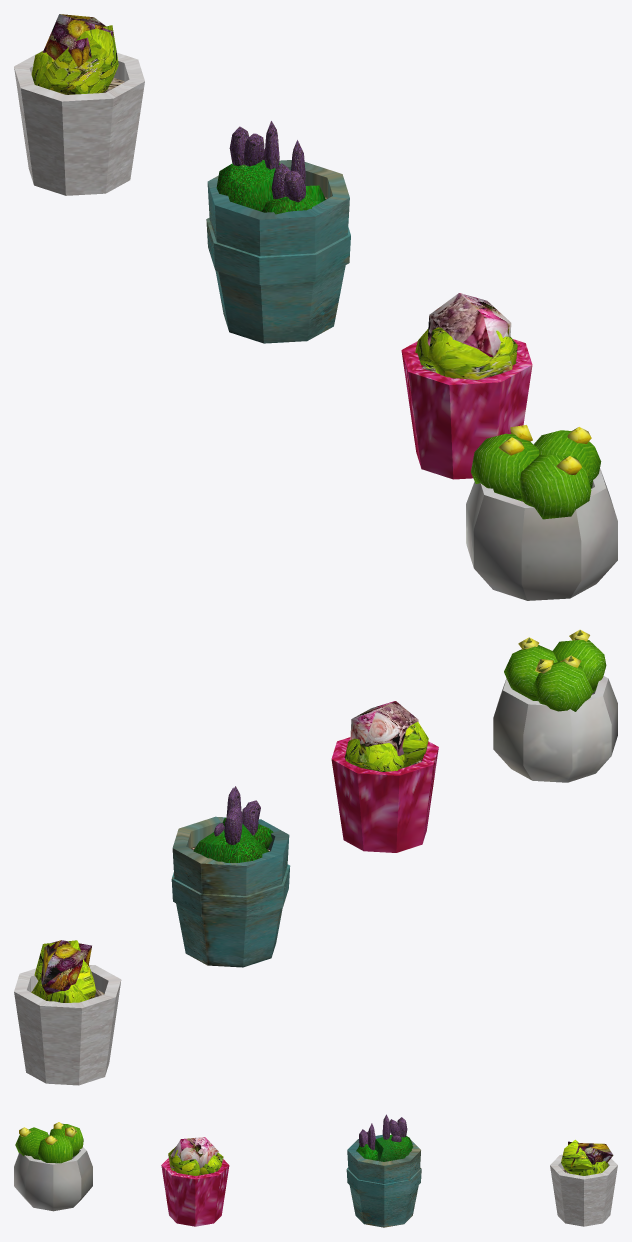
File: flowers.FBX
3 renders of one model, top to bottom at view 1: azimuth 30°, elevation 25°; view 2: azimuth 150°, elevation 25°; view 3: azimuth 270°, elevation 25°, orthographic. The views are drawn at different scales.
Parts seen in each view (by area): view 1: Object002, Cylinder001, Cylinder003, Cylinder002, Sphere003, w, Box004, Box005, Sphere008, Box001, w001, Box002; view 2: Object002, Cylinder001, Cylinder003, Cylinder002, Sphere003, w, w001, Box001, Sphere009, Box005, Sphere008, Box004 (+1 smaller); view 3: Object002, Cylinder001, Cylinder003, Cylinder002, Sphere003, w, Box005, Box001, Box004, w001, Sphere008, Sphere009 (+2 smaller).
Boxes of the visible parts, bbox=[...] form: Object002: bbox=[206, 160, 350, 343]; Cylinder001: bbox=[466, 468, 617, 600]; Cylinder003: bbox=[14, 50, 144, 195]; Cylinder002: bbox=[401, 339, 532, 479]; Sphere003: bbox=[471, 430, 601, 519]; w: bbox=[427, 293, 511, 356]; Box004: bbox=[44, 25, 118, 94]; Box005: bbox=[229, 121, 305, 202]; Sphere008: bbox=[428, 327, 517, 380]; Box001: bbox=[216, 160, 279, 211]; w001: bbox=[42, 14, 113, 67]; Box002: bbox=[261, 185, 325, 214]; Object002: bbox=[171, 816, 290, 967]; Cylinder001: bbox=[493, 676, 617, 782]; Cylinder003: bbox=[14, 964, 121, 1085]; Cylinder002: bbox=[331, 737, 438, 852]; Sphere003: bbox=[504, 640, 606, 711]; w: bbox=[350, 701, 418, 756]; w001: bbox=[41, 940, 91, 994]; Box001: bbox=[193, 823, 268, 862]; Sphere009: bbox=[345, 738, 405, 771]; Box005: bbox=[214, 786, 260, 844]; Sphere008: bbox=[402, 721, 428, 767]; Box004: bbox=[34, 940, 95, 999]; Object002: bbox=[346, 1135, 421, 1227]; Cylinder001: bbox=[14, 1147, 92, 1211]; Cylinder003: bbox=[550, 1154, 617, 1226]; Cylinder002: bbox=[161, 1158, 229, 1226]; Sphere003: bbox=[15, 1123, 83, 1163]; w: bbox=[170, 1137, 218, 1167]; Box005: bbox=[359, 1114, 407, 1150]; Box001: bbox=[375, 1134, 413, 1161]; Box004: bbox=[561, 1139, 593, 1174]; w001: bbox=[568, 1141, 613, 1167]; Sphere008: bbox=[168, 1147, 200, 1175]; Sphere009: bbox=[200, 1152, 223, 1174].
Size of the model in its own units: 112 by 107 by 586.
Materials: 13 (13 with a texture image).
